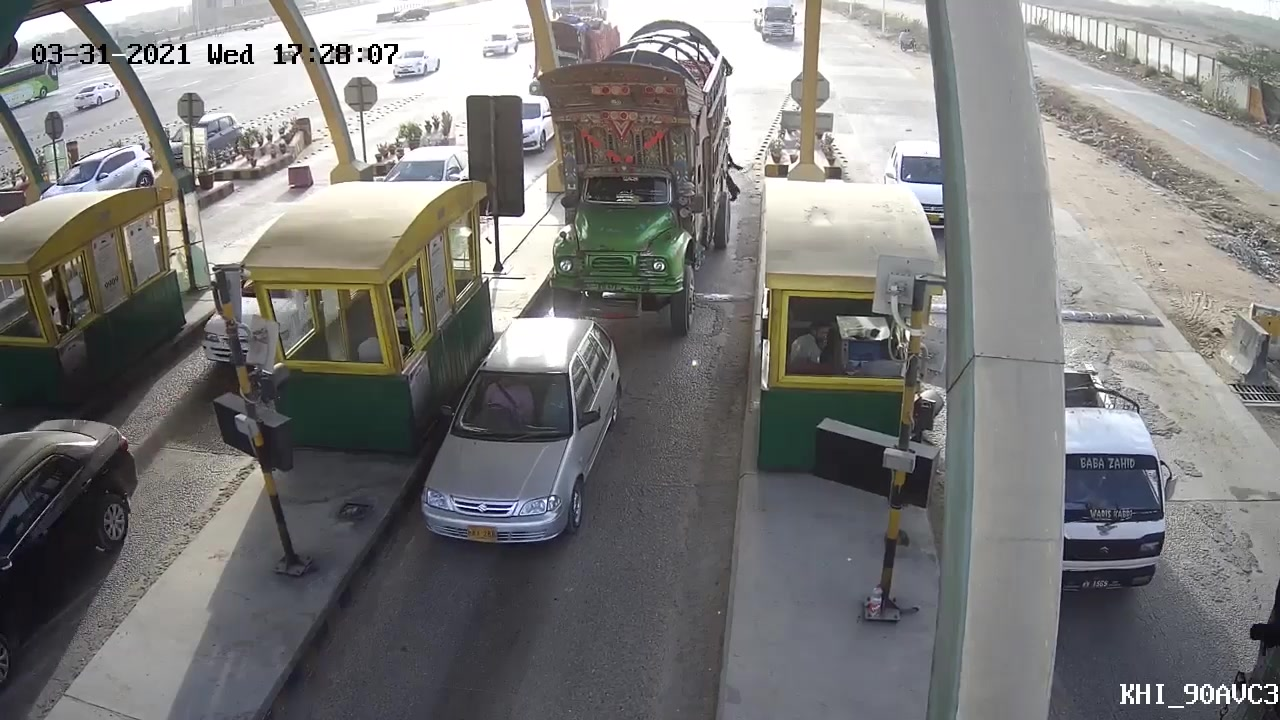F1: (414, 313, 634, 568)
F5: (539, 26, 732, 322)
